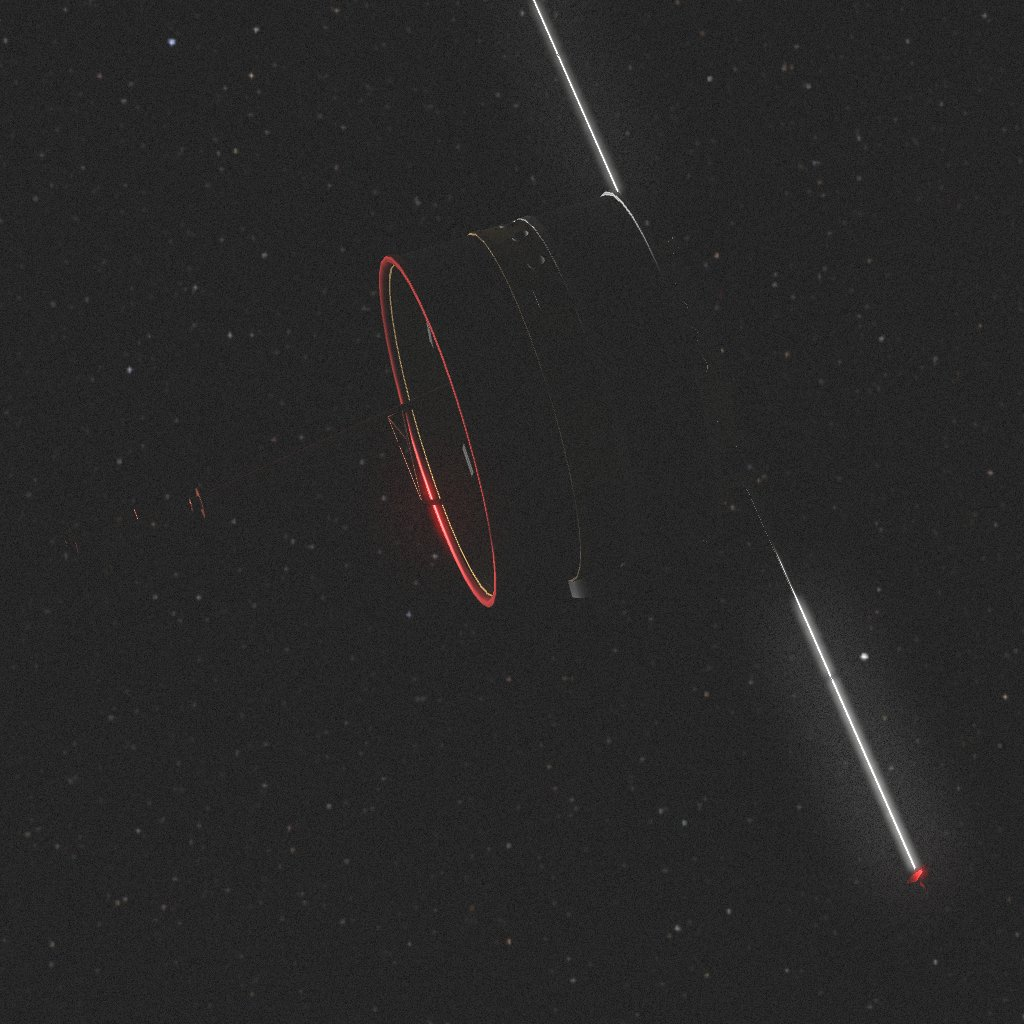double_star: (65, 0, 938, 889)
